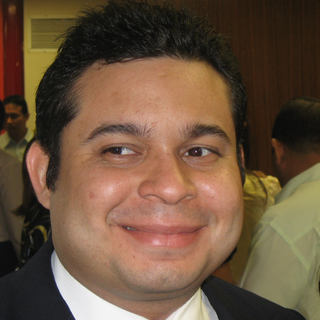eye: (94, 138, 147, 164), (177, 142, 224, 164)
